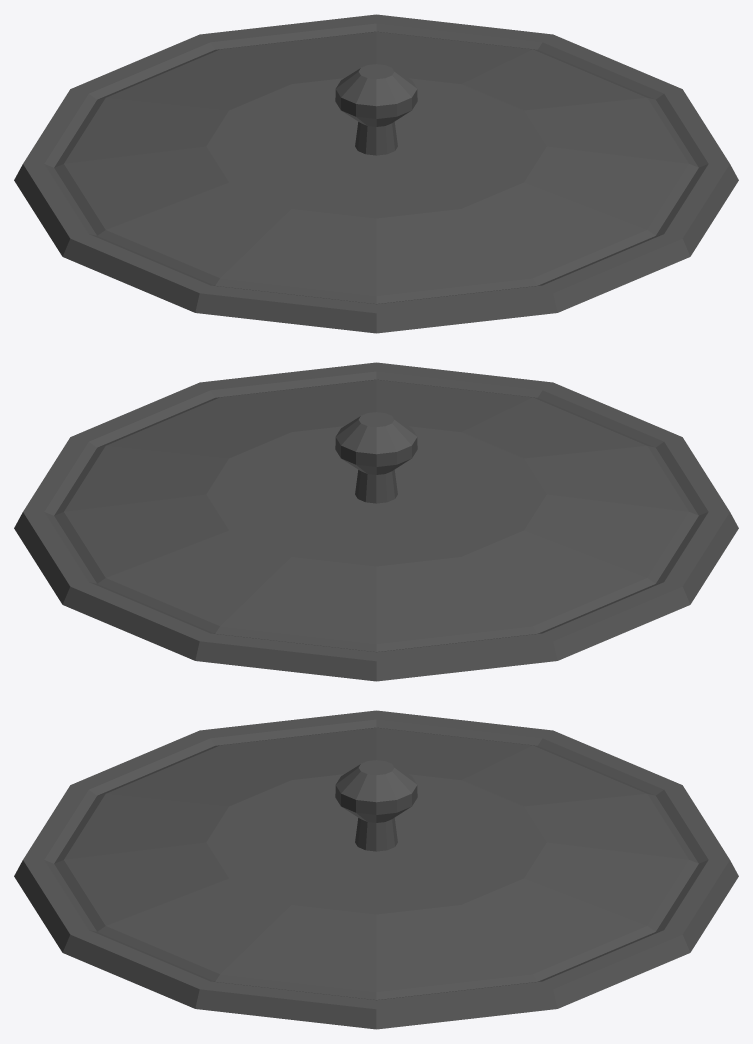
The model's file is PanPart_04_C2.fbx.
The picture shows the model from 3 angles, top to bottom: view 1: azimuth 30°, elevation 25°; view 2: azimuth 150°, elevation 25°; view 3: azimuth 270°, elevation 25°; orthographic projection.
Visible parts, largest first — view 1: PanPart_04_C2; view 2: PanPart_04_C2; view 3: PanPart_04_C2.
Part boxes in pixels (x1,y1,x2,y2): PanPart_04_C2: (14, 14, 738, 333); PanPart_04_C2: (14, 362, 738, 681); PanPart_04_C2: (14, 710, 738, 1029).
Bounding box in the file's own units: 18.36 × 3.04 × 18.36.
